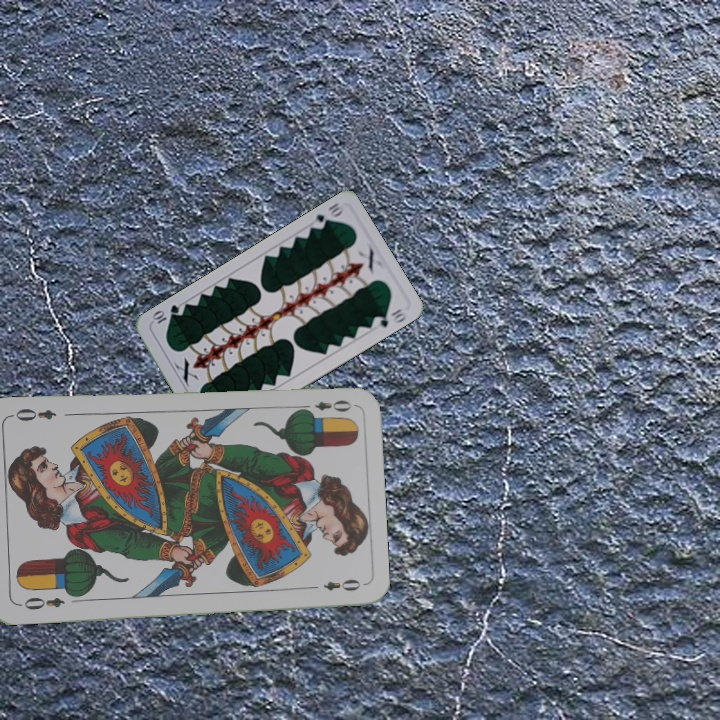EO: (296, 396, 354, 417), (15, 593, 67, 613)
G10: (307, 198, 345, 232)
